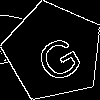G: (28, 26, 86, 86)
